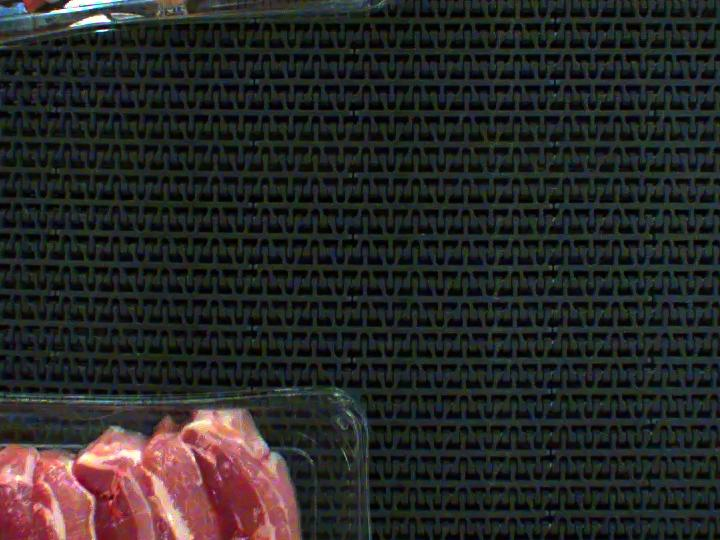packaging-error: (0, 386, 326, 475)
